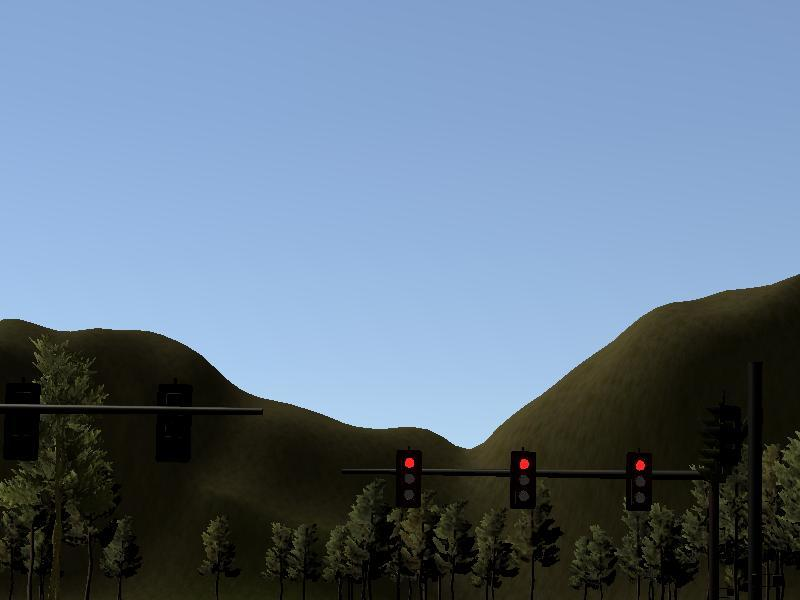Red: (509, 450, 534, 510), (626, 451, 650, 510), (396, 449, 420, 507)
